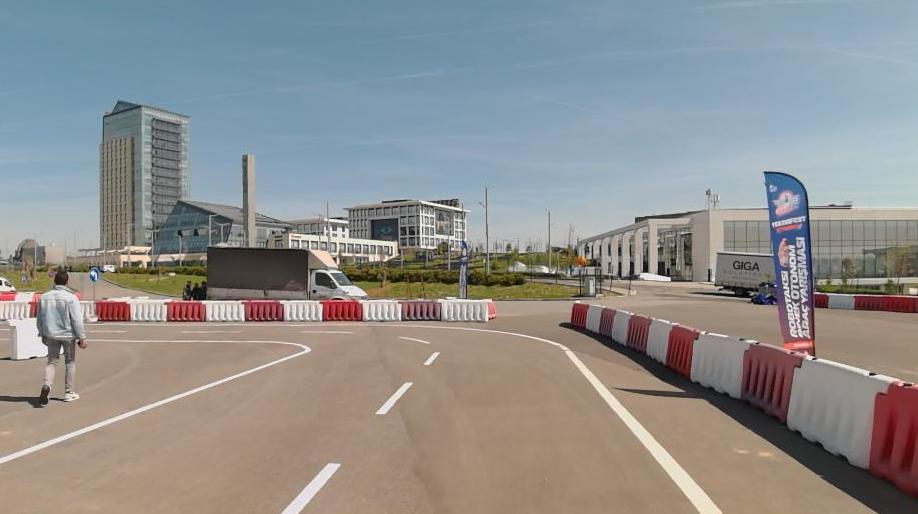nesne: (0, 323, 722, 514), (86, 323, 722, 513), (86, 324, 721, 514), (0, 329, 441, 513), (1, 349, 309, 464), (786, 355, 895, 468), (204, 244, 369, 297), (37, 270, 89, 406), (865, 379, 918, 496), (740, 339, 806, 424), (691, 330, 752, 398), (283, 461, 341, 512), (89, 337, 303, 347), (666, 323, 701, 379), (9, 317, 47, 361), (646, 317, 673, 363), (438, 299, 489, 321), (378, 381, 410, 413), (852, 297, 916, 313), (358, 299, 401, 322), (625, 313, 649, 353), (396, 300, 440, 321), (319, 300, 361, 322), (203, 299, 244, 321), (242, 298, 282, 320), (126, 298, 166, 320), (164, 299, 205, 320), (94, 298, 128, 322), (280, 301, 320, 320), (612, 310, 631, 345), (0, 301, 31, 322), (598, 307, 615, 340), (585, 304, 603, 334), (570, 302, 587, 329), (398, 334, 432, 346), (827, 293, 854, 308), (80, 299, 94, 322), (301, 328, 352, 333), (87, 266, 100, 284), (813, 291, 827, 307), (181, 329, 242, 332), (424, 352, 439, 364), (89, 329, 126, 332)
